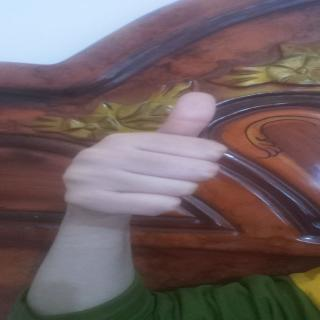ALIF: (54, 88, 250, 220)
